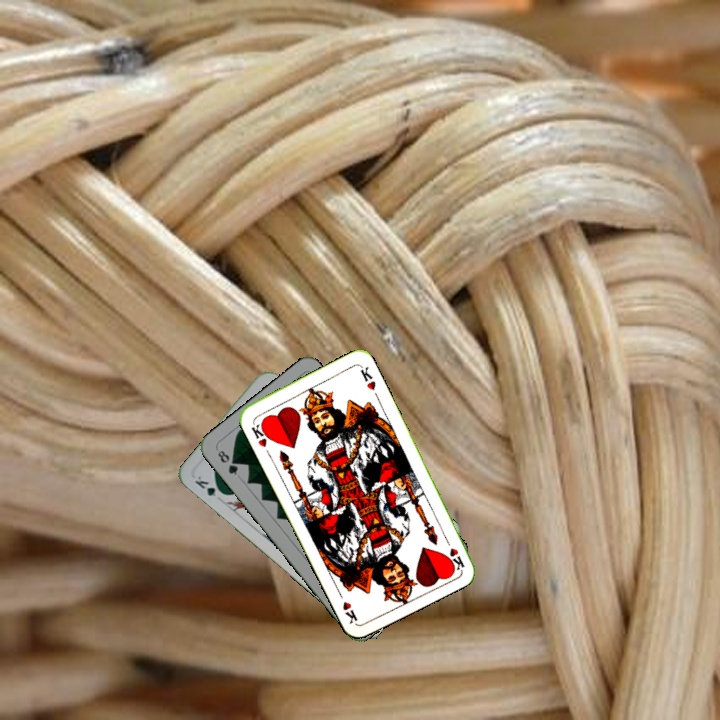G8: (213, 446, 241, 478)
GK: (190, 472, 228, 499)
HK: (440, 532, 467, 572), (247, 418, 273, 450)
